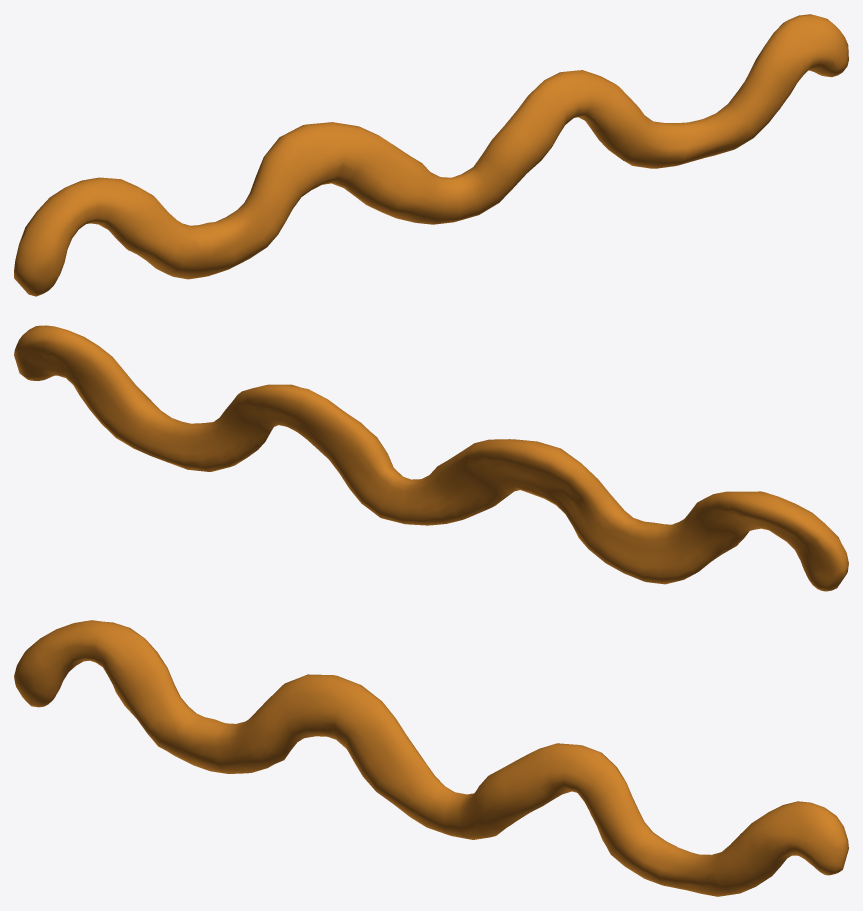
3 renders of one model, top to bottom at view 1: azimuth 30°, elevation 25°; view 2: azimuth 150°, elevation 25°; view 3: azimuth 330°, elevation 25°, orthographic.
Bounding box in the file's own units: 0.6061 × 0.0842 × 0.042.
